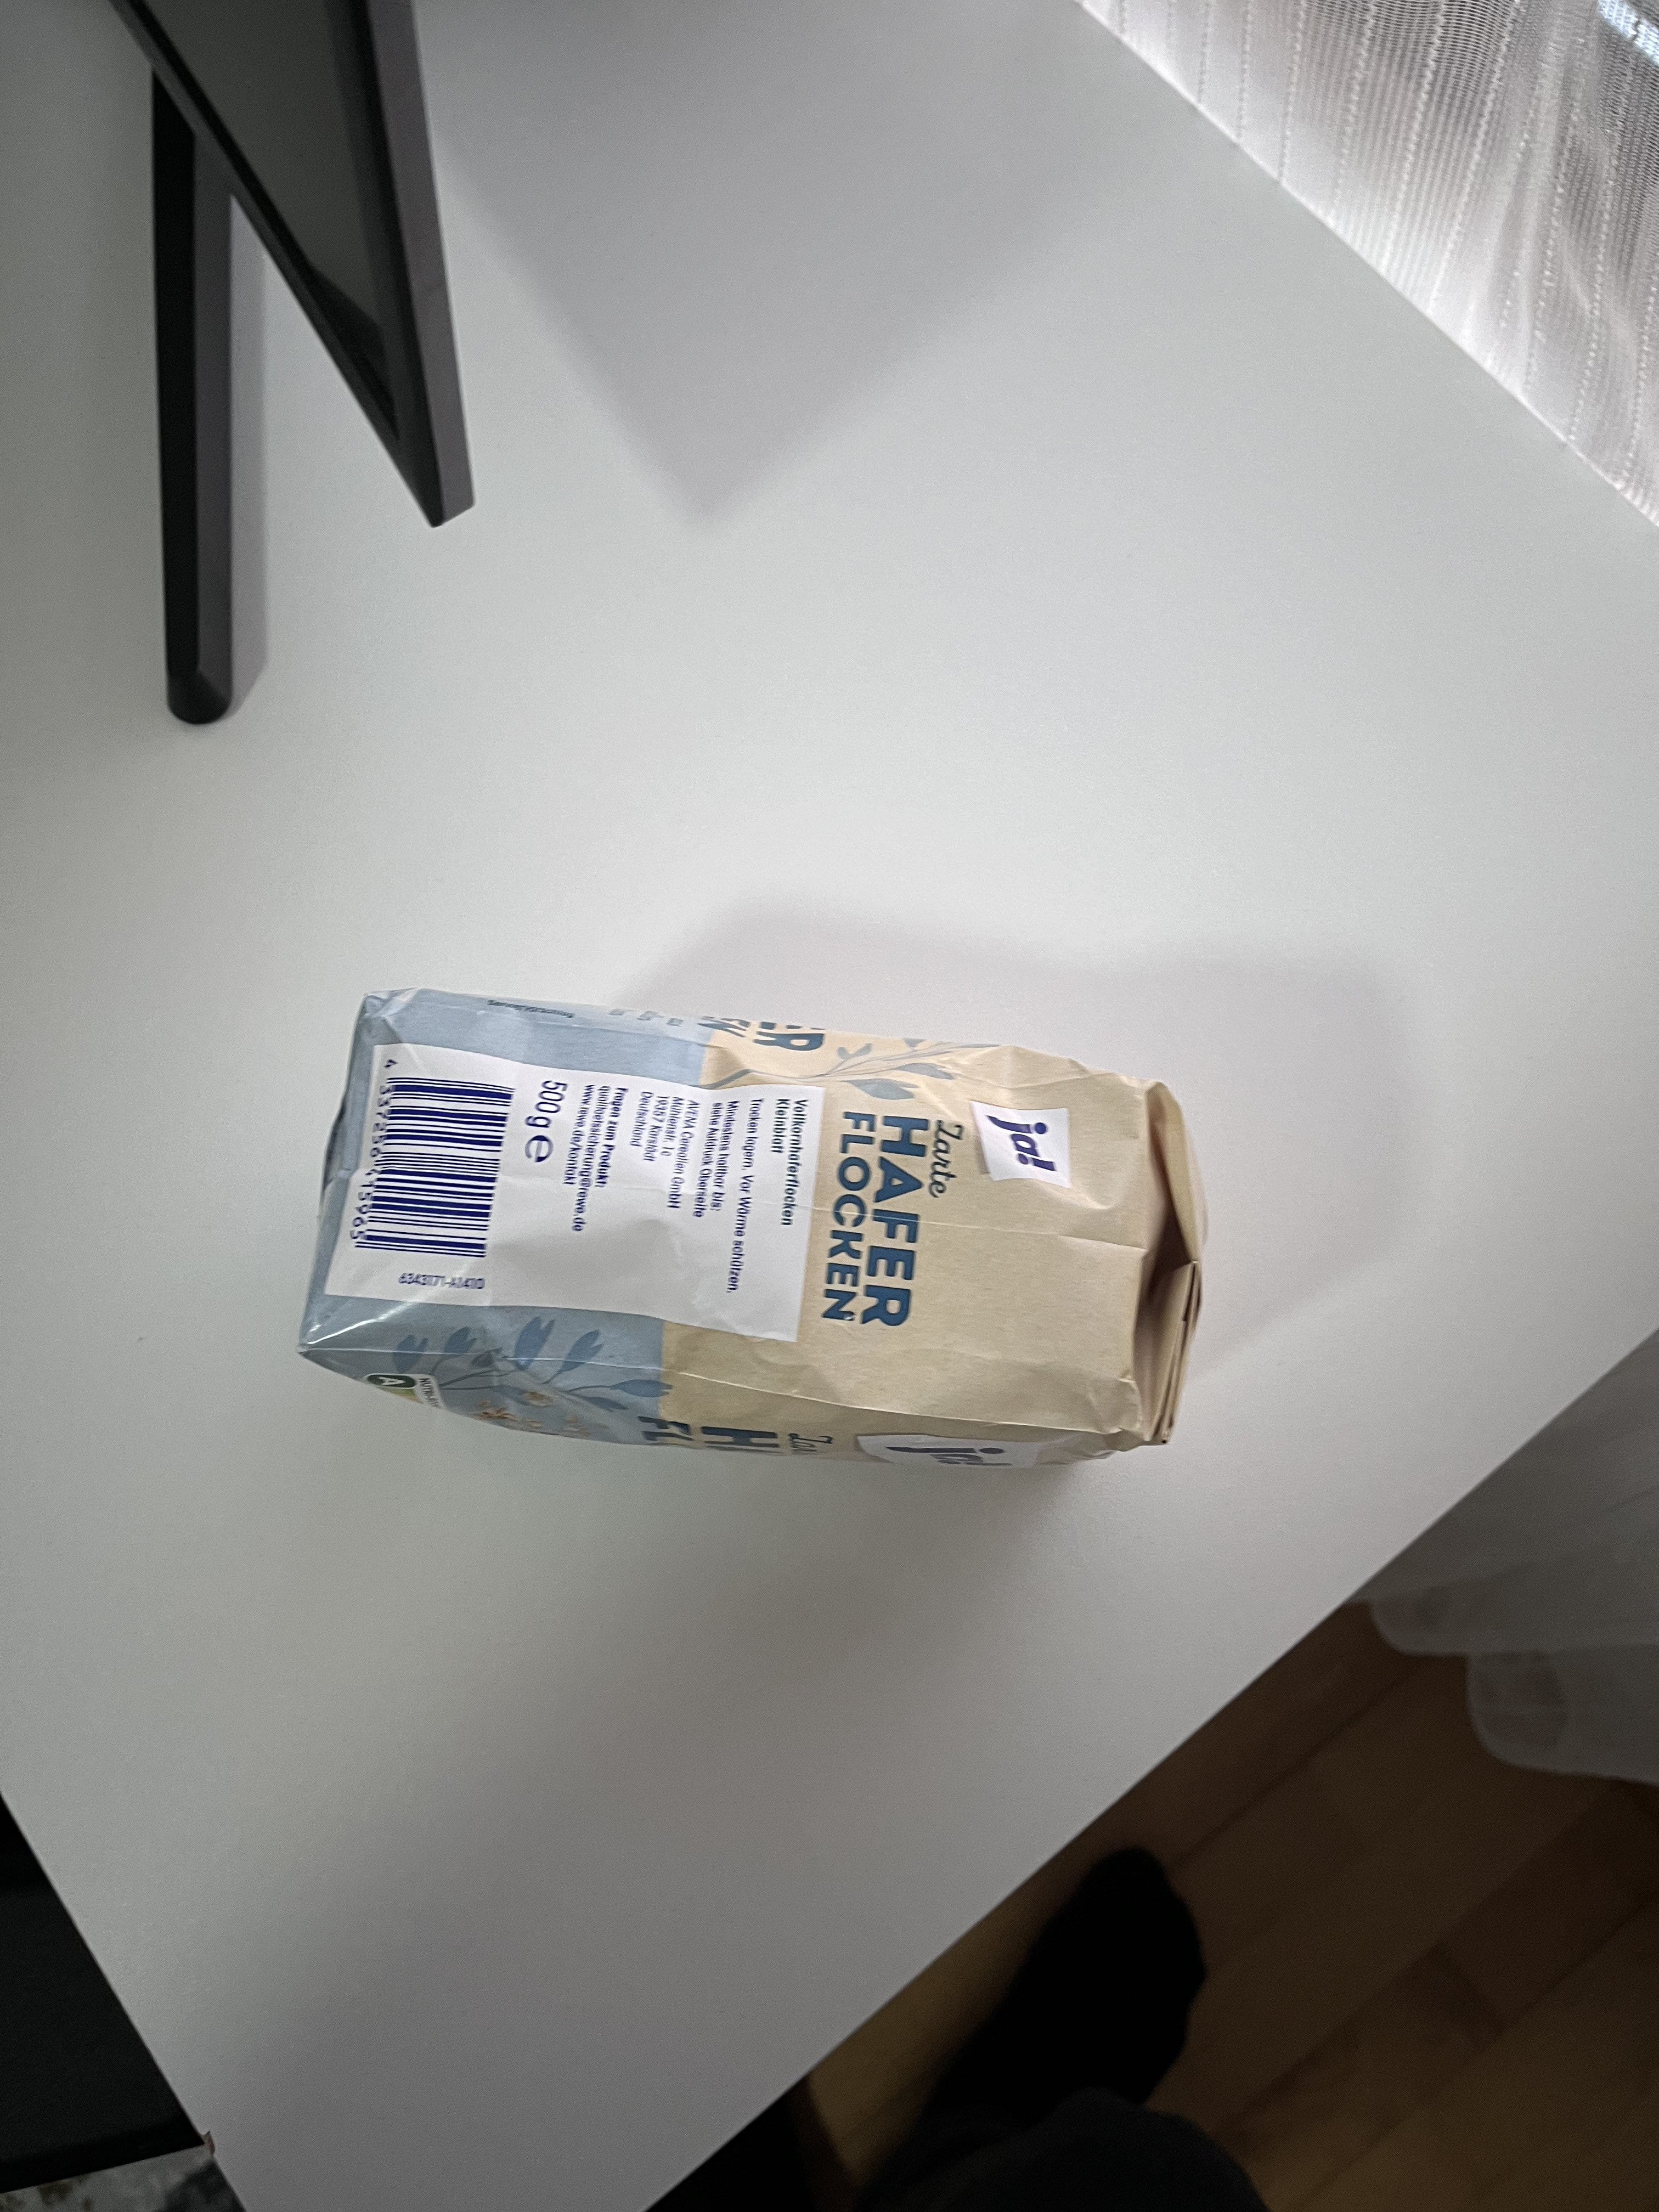haferflocken_ja: (296, 984, 1206, 1461)
